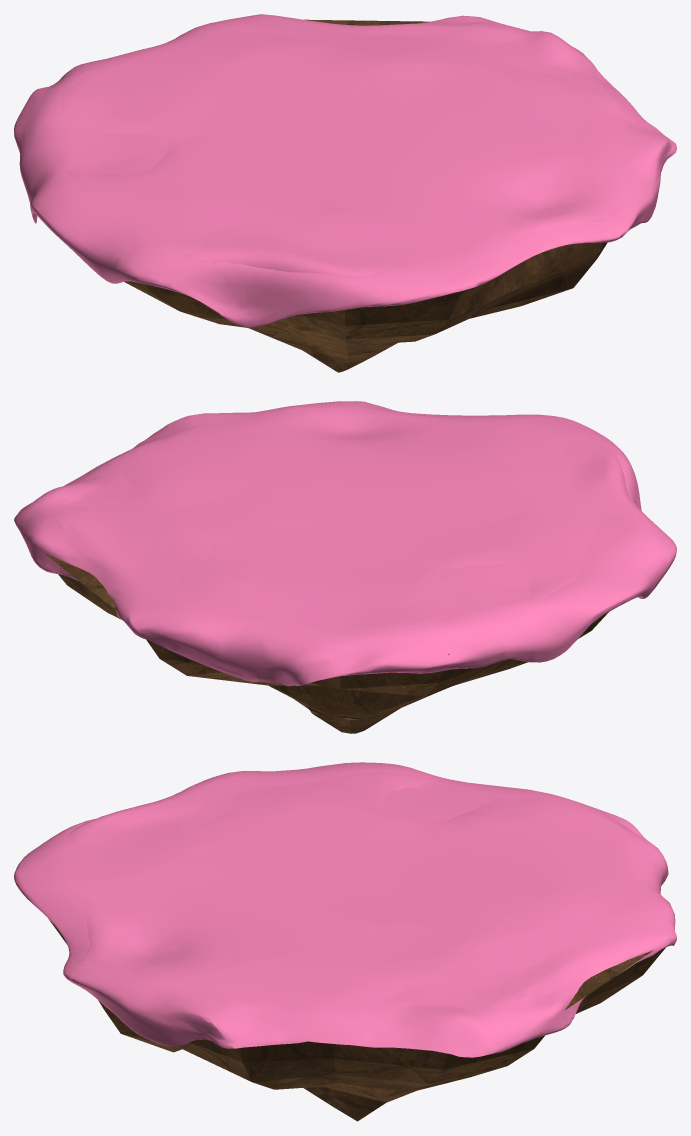
The model's file is Dolci_p1_LOD2.fbx.
The picture shows the model from 3 angles, top to bottom: view 1: azimuth 30°, elevation 25°; view 2: azimuth 150°, elevation 25°; view 3: azimuth 270°, elevation 25°; orthographic projection. The views are drawn at different scales.
Parts seen in each view (by area): view 1: Plane, ground; view 2: Plane, ground; view 3: Plane, ground.
Boxes of the visible parts, left/top/right/bottom form: Plane: left=14, top=14, right=676, bottom=327; ground: left=20, top=19, right=607, bottom=372; Plane: left=14, top=401, right=676, bottom=686; ground: left=43, top=552, right=608, bottom=733; Plane: left=14, top=762, right=676, bottom=1057; ground: left=48, top=918, right=665, bottom=1121.
Size of the model in its own units: 526 by 199 by 521.
Materials: 2 (2 with a texture image).
